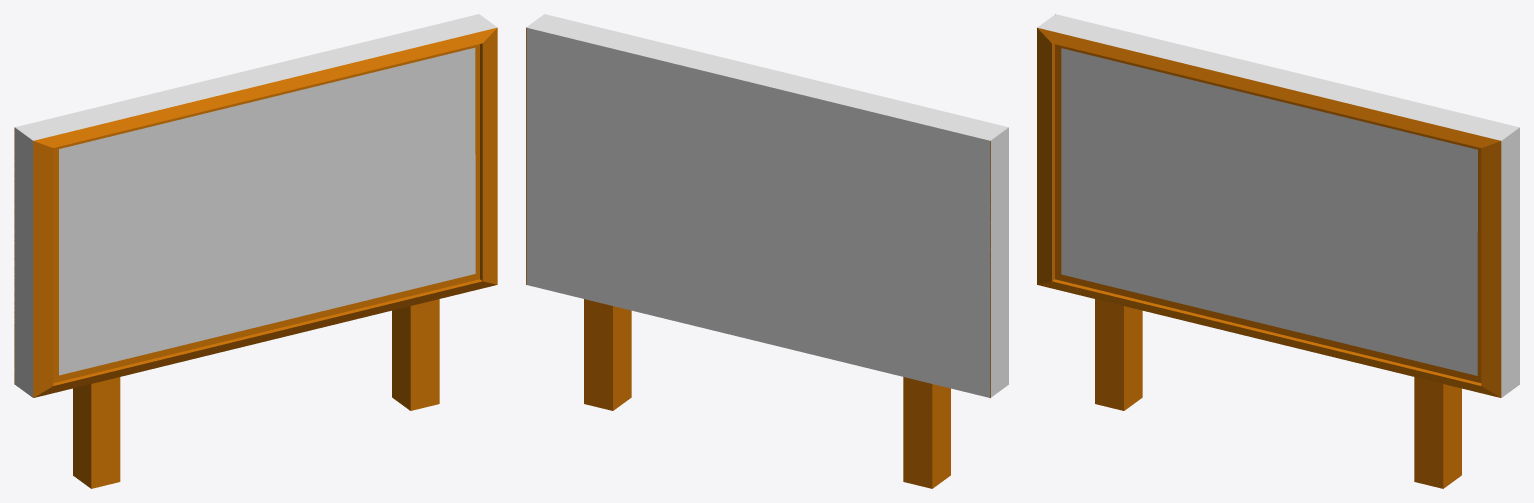
Rendered from popup.glb.
The picture shows the model from 3 angles, left to right: view 1: azimuth 30°, elevation 25°; view 2: azimuth 150°, elevation 25°; view 3: azimuth 330°, elevation 25°; orthographic projection.
Visible parts, largest first — view 1: picture, body; view 2: body; view 3: picture, body.
Boxes of the visible parts, x1=… form: picture: x1=59, y1=47, x2=475, y2=375; body: x1=14, y1=14, x2=497, y2=488; body: x1=526, y1=14, x2=1008, y2=488; picture: x1=1061, y1=48, x2=1477, y2=375; body: x1=1037, y1=14, x2=1519, y2=488.
Bounding box in the file's own units: 3.92 × 2.92 × 0.3073.
Materials: 1 (1 with a texture image).
